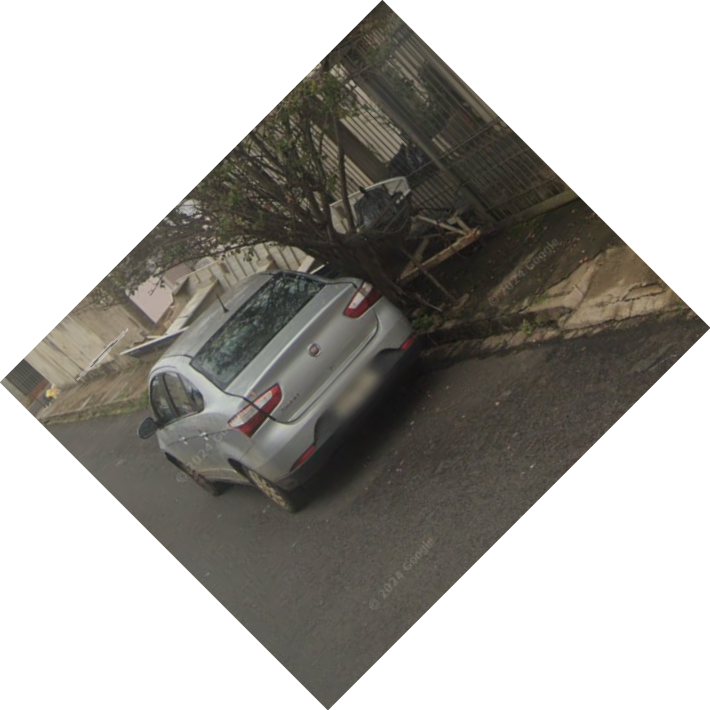car: (136, 265, 437, 520)
